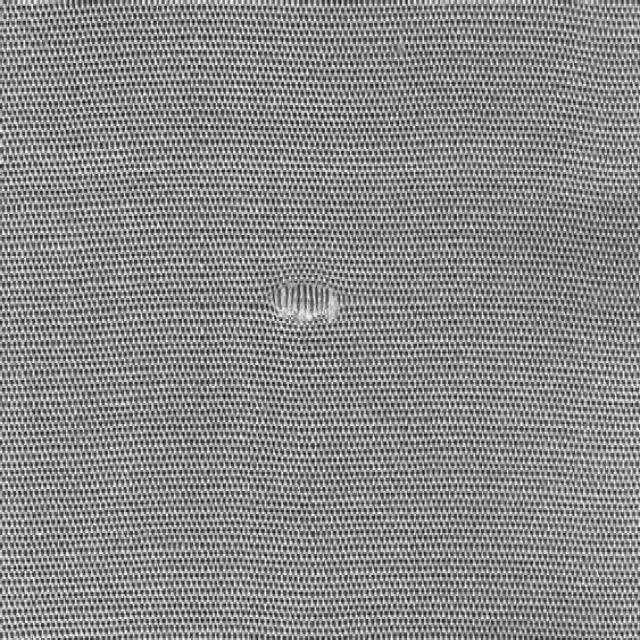seam: (258, 279, 342, 323)
